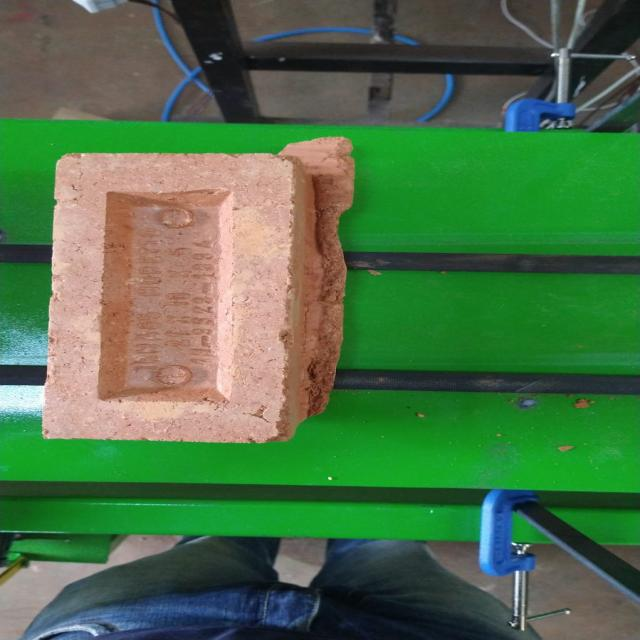bricks_ruin: (39, 137, 356, 444)
